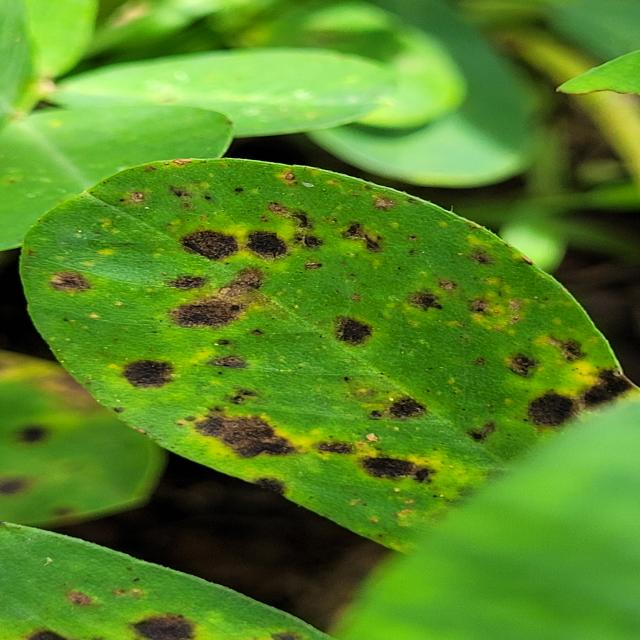Ground nut_tikka leaf spot: (29, 164, 640, 542), (0, 514, 325, 640)
